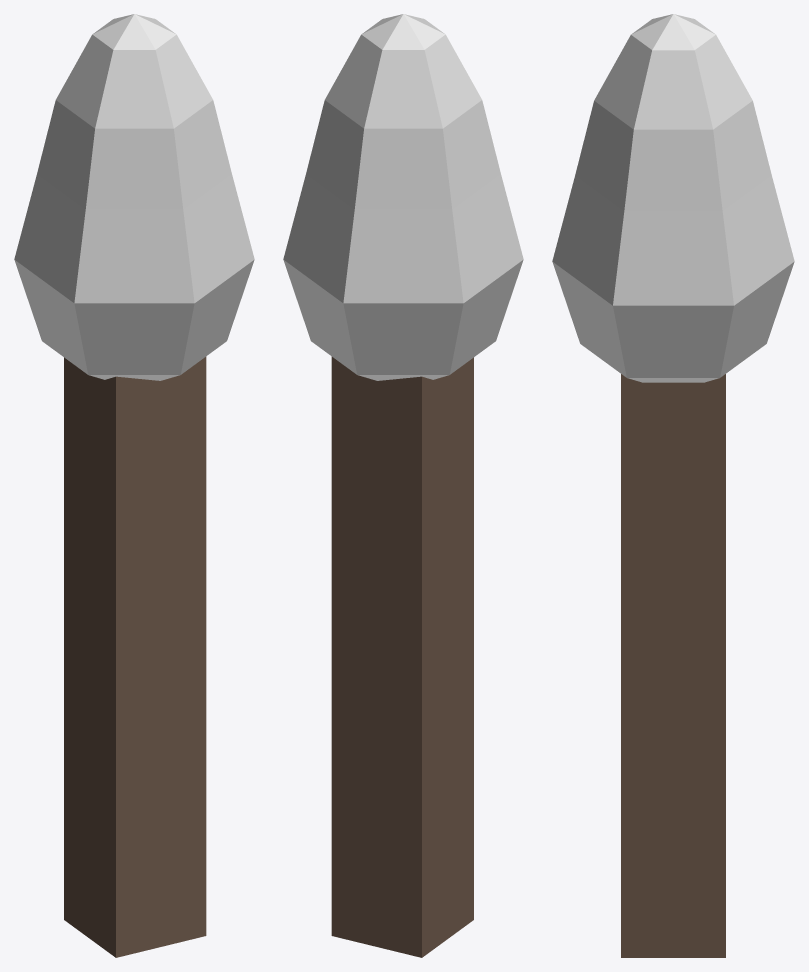
File: Torch.fbx
3 views of the same model, side by side, from view 1: azimuth 30°, elevation 25°; view 2: azimuth 150°, elevation 25°; view 3: azimuth 270°, elevation 25° (orthographic).
Visible parts, largest first — view 1: Torch; view 2: Torch; view 3: Torch.
Boxes of the visible parts, bbox=[...] form: Torch: bbox=[14, 14, 254, 957]; Torch: bbox=[283, 14, 523, 957]; Torch: bbox=[552, 14, 794, 957].
Size of the model in its own units: 0.3136 by 1.52 by 0.3621.
